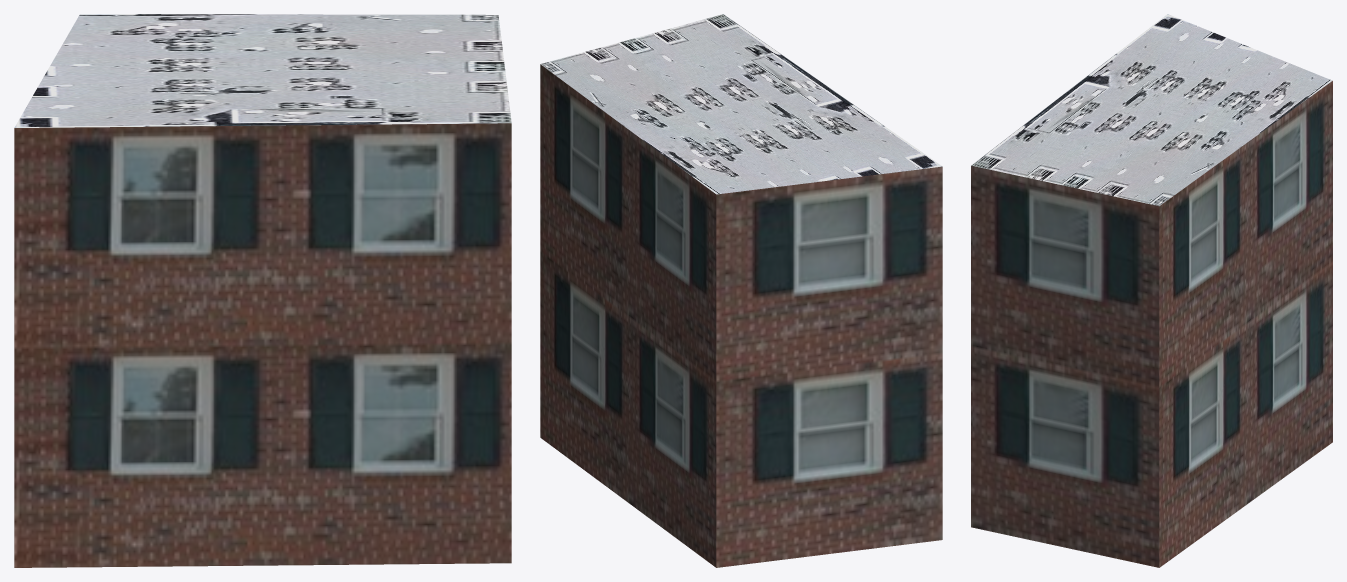
File: ResTex__896.fbx
The picture shows the model from 3 angles, left to right: view 1: azimuth 30°, elevation 25°; view 2: azimuth 150°, elevation 25°; view 3: azimuth 270°, elevation 25°; orthographic projection. The views are drawn at different scales.
Visible parts, largest first — view 1: CityEngineMaterial_14_m, CityEngineMaterial_8_m; view 2: CityEngineMaterial_14_m, CityEngineMaterial_8_m; view 3: CityEngineMaterial_14_m, CityEngineMaterial_8_m.
Boxes of the visible parts, x1=… form: CityEngineMaterial_14_m: x1=14, y1=123, x2=511, y2=567; CityEngineMaterial_8_m: x1=14, y1=14, x2=511, y2=127; CityEngineMaterial_14_m: x1=540, y1=64, x2=942, y2=567; CityEngineMaterial_8_m: x1=540, y1=14, x2=942, y2=194; CityEngineMaterial_14_m: x1=971, y1=81, x2=1332, y2=567; CityEngineMaterial_8_m: x1=971, y1=14, x2=1332, y2=206.
Bounding box in the file's own units: 6.84 × 6 × 5.44.
2 materials, 2 textured.
